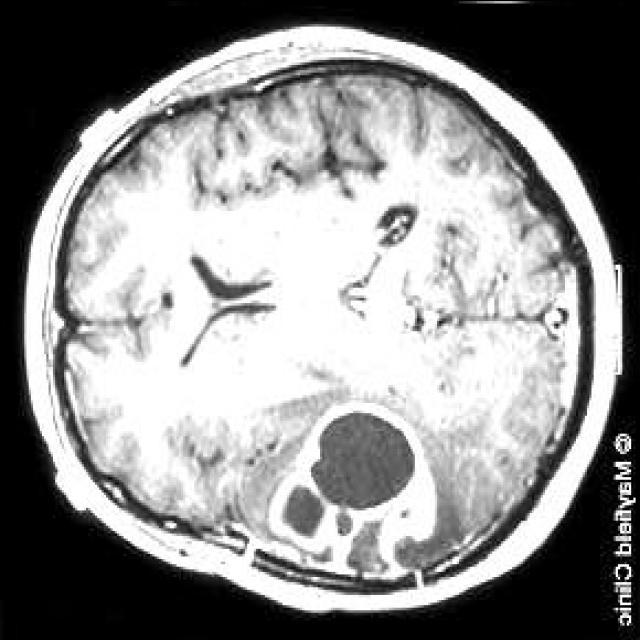tumor: (269, 399, 437, 563)
